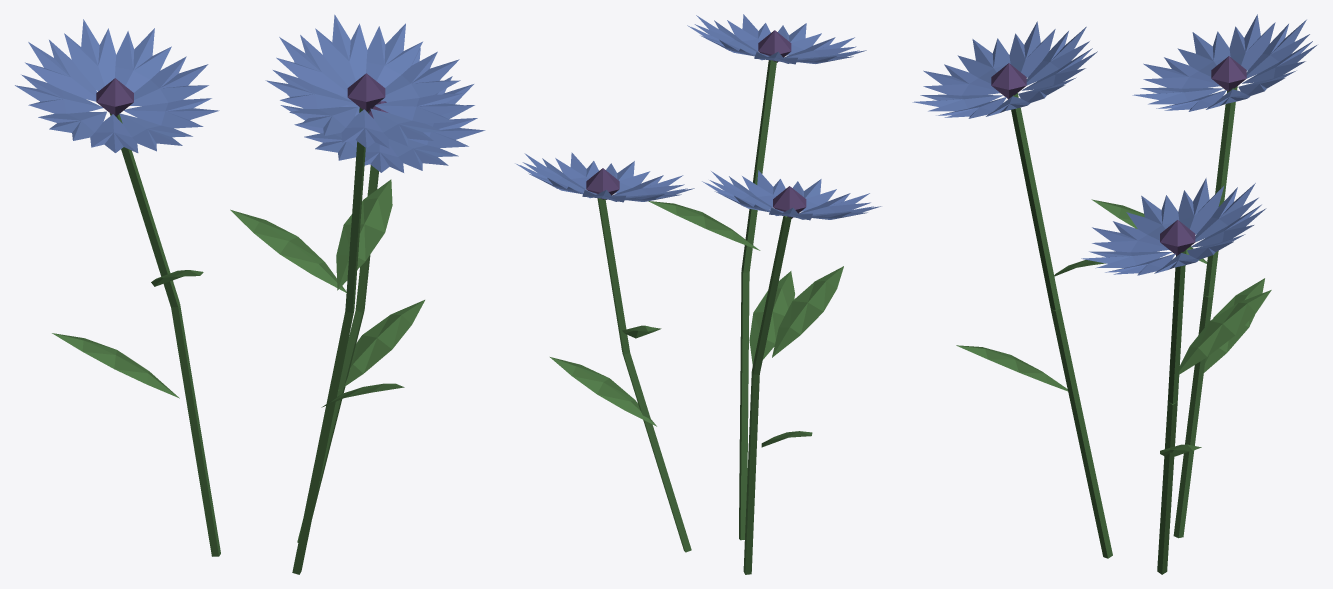
The model's file is flower_summer_a.glb.
3 views of the same model, side by side, from view 1: azimuth 30°, elevation 25°; view 2: azimuth 150°, elevation 25°; view 3: azimuth 270°, elevation 25° (orthographic). The views are drawn at different scales.
Visible parts, largest first — view 1: plant; view 2: plant; view 3: plant.
Part boxes in pixels (left/top/right/bottom): plant: left=15, top=14, right=485, bottom=574; plant: left=515, top=14, right=881, bottom=574; plant: left=912, top=14, right=1316, bottom=574.
Size of the model in its own units: 0.2822 by 0.36 by 0.2548.
